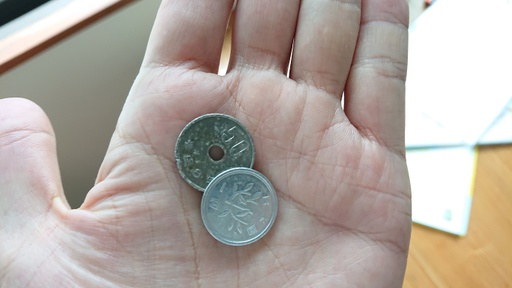1yen: (200, 167, 278, 246)
50yen: (174, 113, 254, 193)
